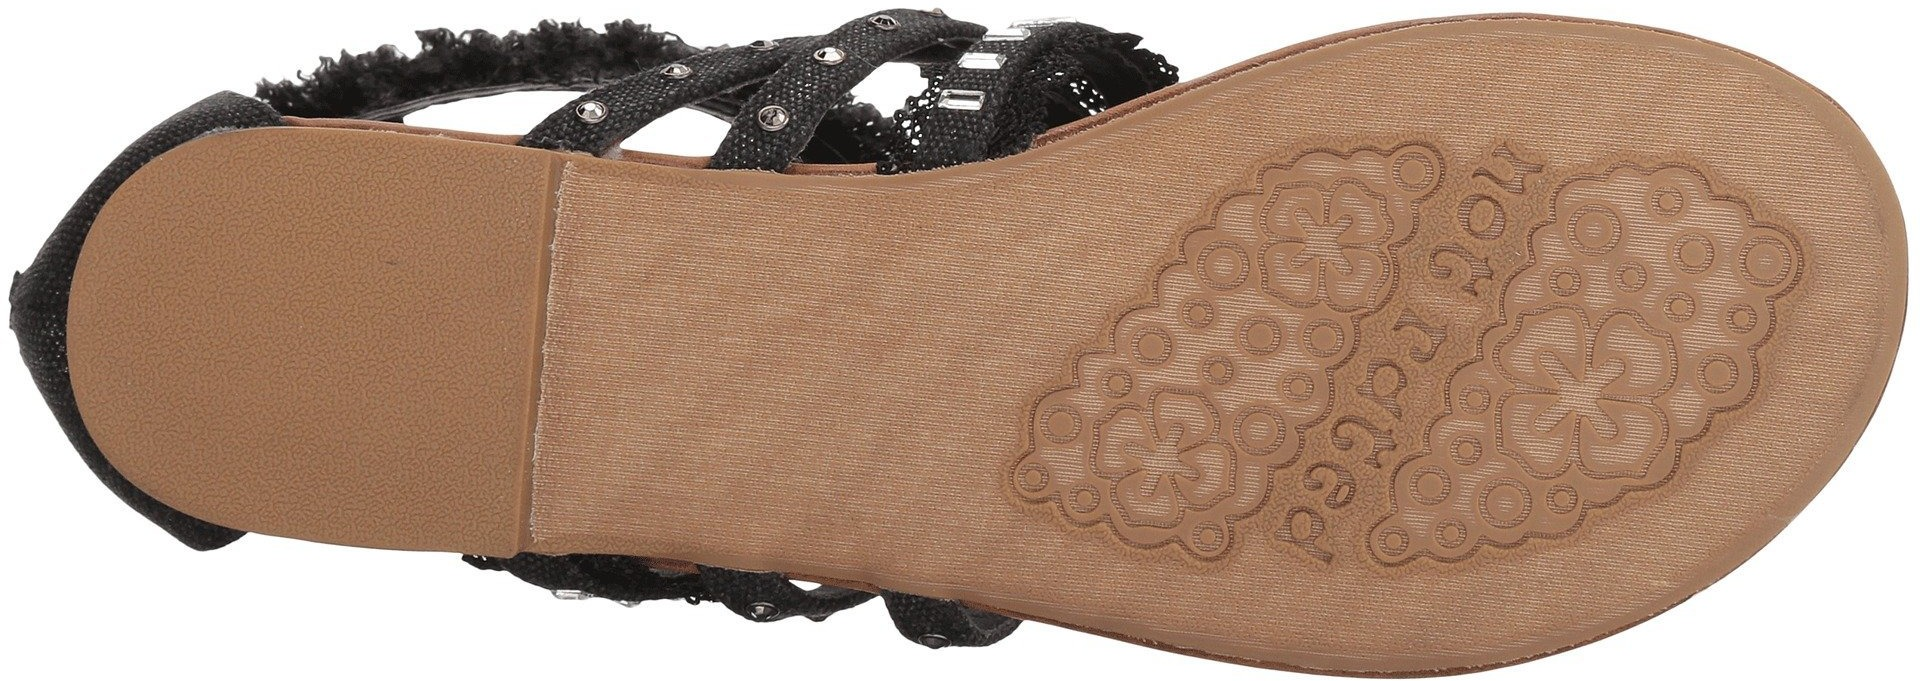circle: (1632, 130, 1827, 327), (1142, 236, 1296, 392), (969, 405, 1123, 543)
other: (119, 207, 342, 412), (759, 191, 965, 388), (340, 140, 531, 350), (549, 358, 753, 543), (762, 391, 951, 574), (571, 182, 754, 352), (969, 178, 1124, 325), (324, 419, 470, 543)
star: (1490, 293, 1680, 496)
text: (1331, 363, 1434, 469), (1384, 255, 1490, 356), (1284, 476, 1379, 579), (1452, 167, 1531, 254)
